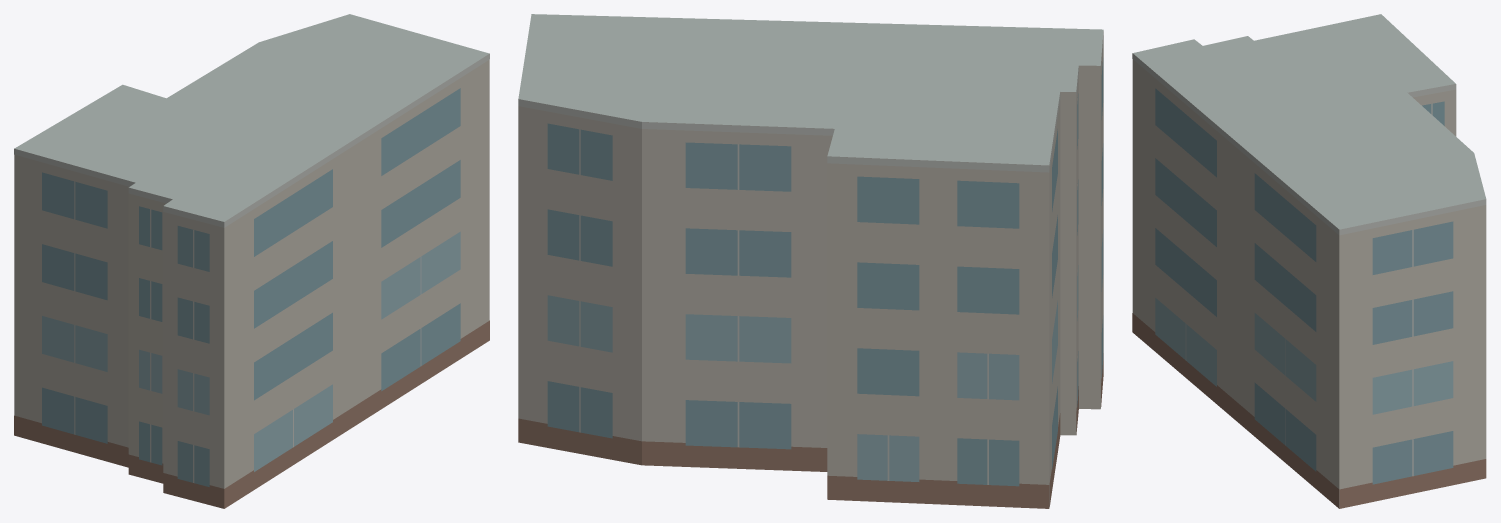
The model's file is survey-upis-32806750.glb.
3 renders of one model, left to right at view 1: azimuth 30°, elevation 25°; view 2: azimuth 150°, elevation 25°; view 3: azimuth 270°, elevation 25°, orthographic. The views are drawn at different scales.
Visible parts, largest first — view 1: survey-upis-32806750.tmp; view 2: survey-upis-32806750.tmp; view 3: survey-upis-32806750.tmp.
Boxes of the visible parts, x1,y1,x2,y2 form: survey-upis-32806750.tmp: [14, 14, 489, 508]; survey-upis-32806750.tmp: [518, 14, 1103, 508]; survey-upis-32806750.tmp: [1132, 14, 1486, 508].
Size of the model in its own units: 19.64 by 11.85 by 13.62.
